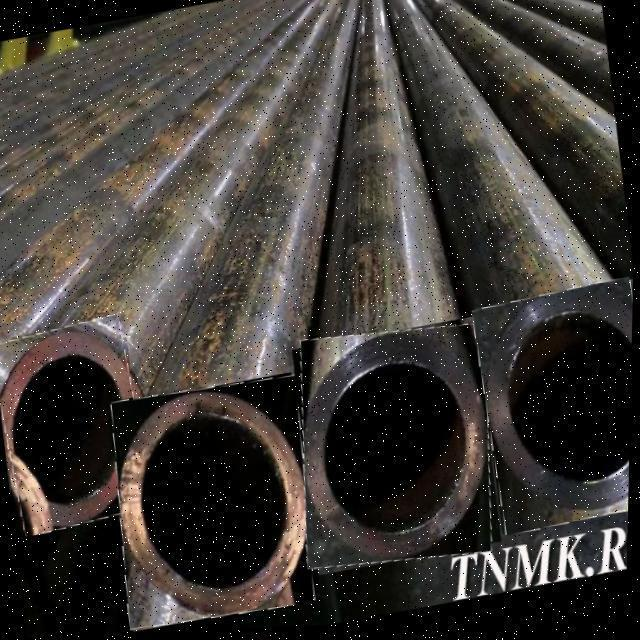pipe: (113, 378, 317, 630), (303, 328, 494, 572), (474, 283, 634, 540), (0, 315, 155, 537)
